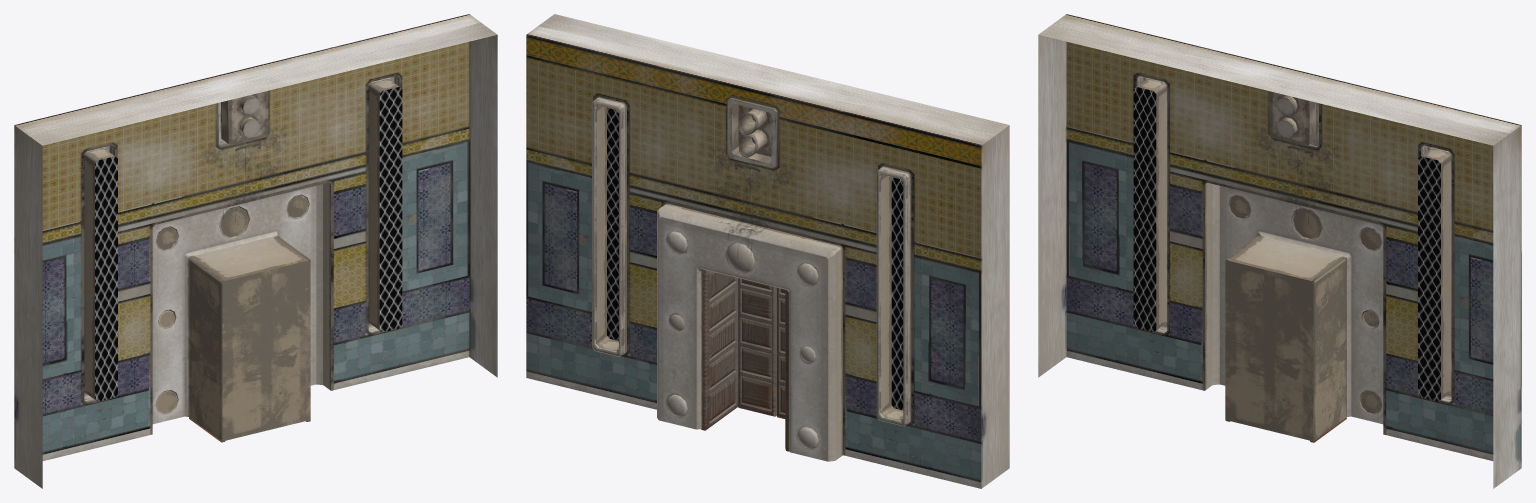
The model's file is patrick-wall-tanit.glb.
The picture shows the model from 3 angles, left to right: view 1: azimuth 30°, elevation 25°; view 2: azimuth 150°, elevation 25°; view 3: azimuth 330°, elevation 25°; orthographic projection.
Visible parts, largest first — view 1: Tanit_Wall_01; view 2: Tanit_Wall_01; view 3: Tanit_Wall_01.
Boxes of the visible parts, x1,y1,x2,y2 form: Tanit_Wall_01: (14,14,497,488); Tanit_Wall_01: (526,14,1009,488); Tanit_Wall_01: (1038,14,1521,488).
Size of the model in its own units: 0.1629 by 0.1179 by 0.0255.
1 material, 1 textured.
